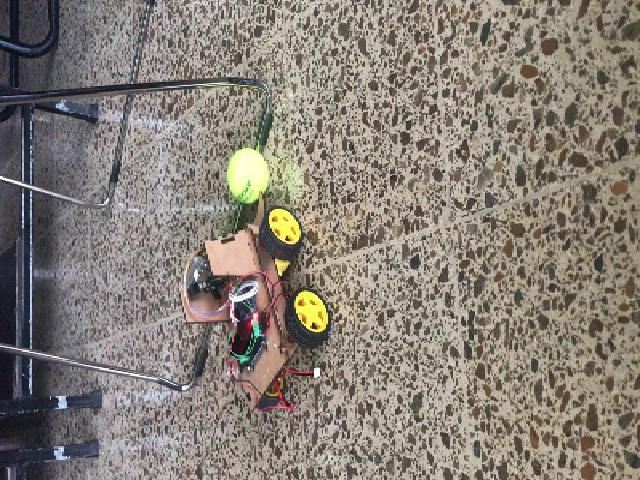Ball: (227, 146, 269, 203)
Robot: (179, 192, 328, 410)
